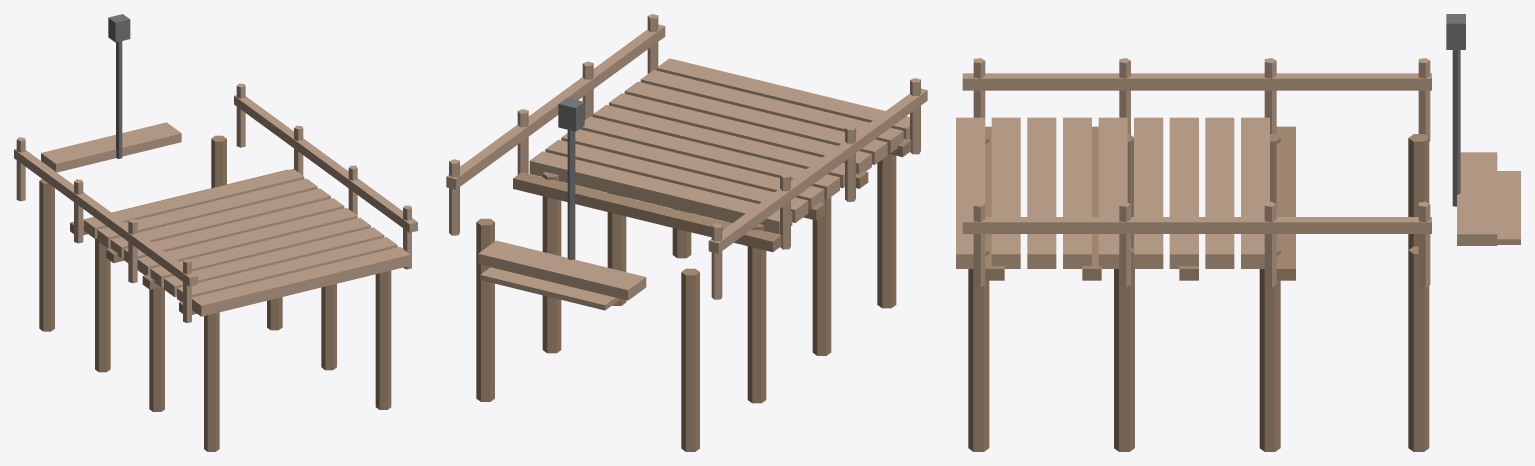
Rendered from dock.glb.
3 views of the same model, side by side, from view 1: azimuth 30°, elevation 25°; view 2: azimuth 150°, elevation 25°; view 3: azimuth 270°, elevation 25° (orthographic). The views are drawn at different scales.
Parts seen in each view (by area): view 1: Dock; view 2: Dock; view 3: Dock.
Boxes of the visible parts, x1=… form: Dock: x1=14, y1=14, x2=417, y2=451; Dock: x1=446, y1=14, x2=927, y2=451; Dock: x1=956, y1=14, x2=1520, y2=451.
Size of the model in its own units: 2.18 by 2.55 by 3.49.
